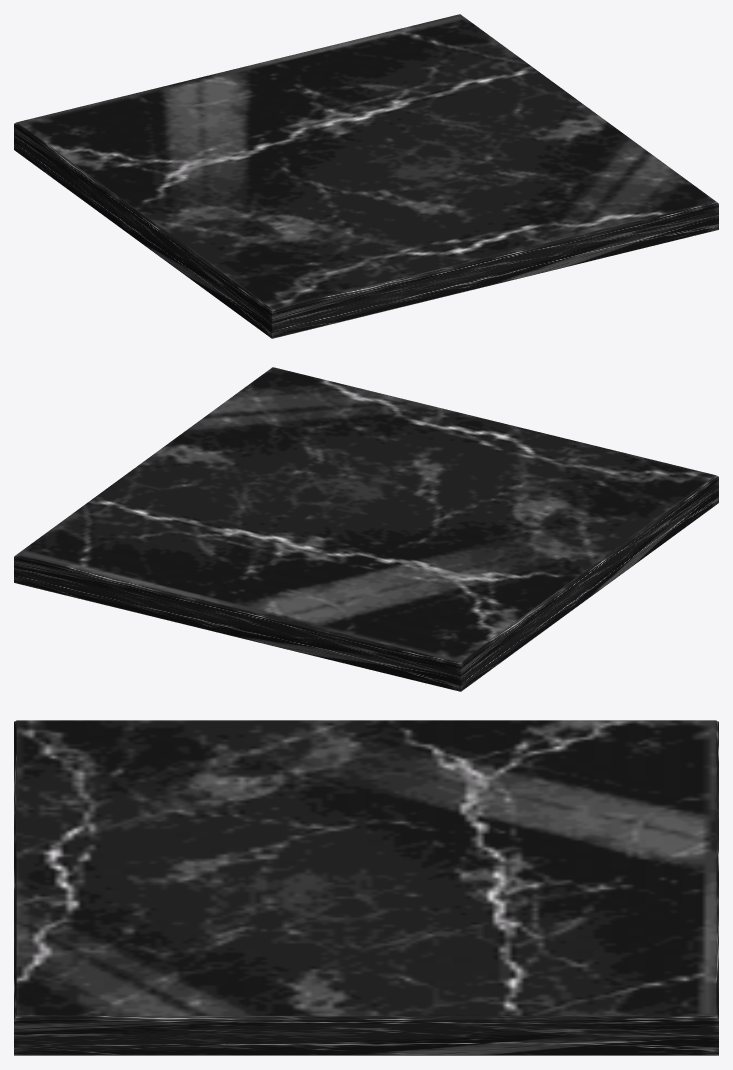
The model's file is f02-black-marble-fine-textured-wet.glb.
3 views of the same model, one above another, from view 1: azimuth 30°, elevation 25°; view 2: azimuth 150°, elevation 25°; view 3: azimuth 270°, elevation 25° (orthographic). The views are drawn at different scales.
Parts seen in each view (by area): view 1: f02-black-marble-fine-textured-wet; view 2: f02-black-marble-fine-textured-wet; view 3: f02-black-marble-fine-textured-wet.
Boxes of the visible parts, left/top/right/bottom form: f02-black-marble-fine-textured-wet: left=14, top=14, right=718, bottom=338; f02-black-marble-fine-textured-wet: left=14, top=367, right=718, bottom=691; f02-black-marble-fine-textured-wet: left=14, top=720, right=718, bottom=1055.
Size of the model in its own units: 1 by 0.06 by 1.
1 material, 1 textured.
